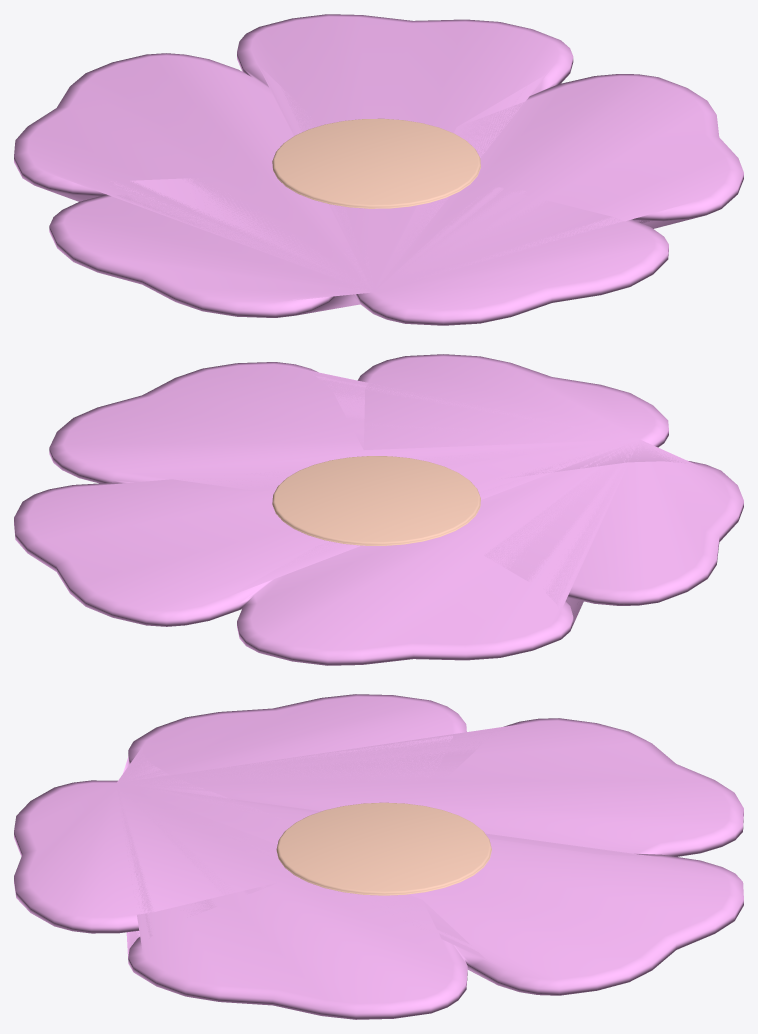
Rendered from KukkaMatto (1).fbx.
The picture shows the model from 3 angles, top to bottom: view 1: azimuth 30°, elevation 25°; view 2: azimuth 150°, elevation 25°; view 3: azimuth 270°, elevation 25°; orthographic projection. The views are drawn at different scales.
Parts seen in each view (by area): view 1: flower; view 2: flower; view 3: flower.
Boxes of the visible parts, <box> form: flower: <box>14,14,743,325</box>; flower: <box>14,354,743,665</box>; flower: <box>14,694,743,1019</box>.
Size of the model in its own units: 2.02 by 0.0388 by 1.95.
